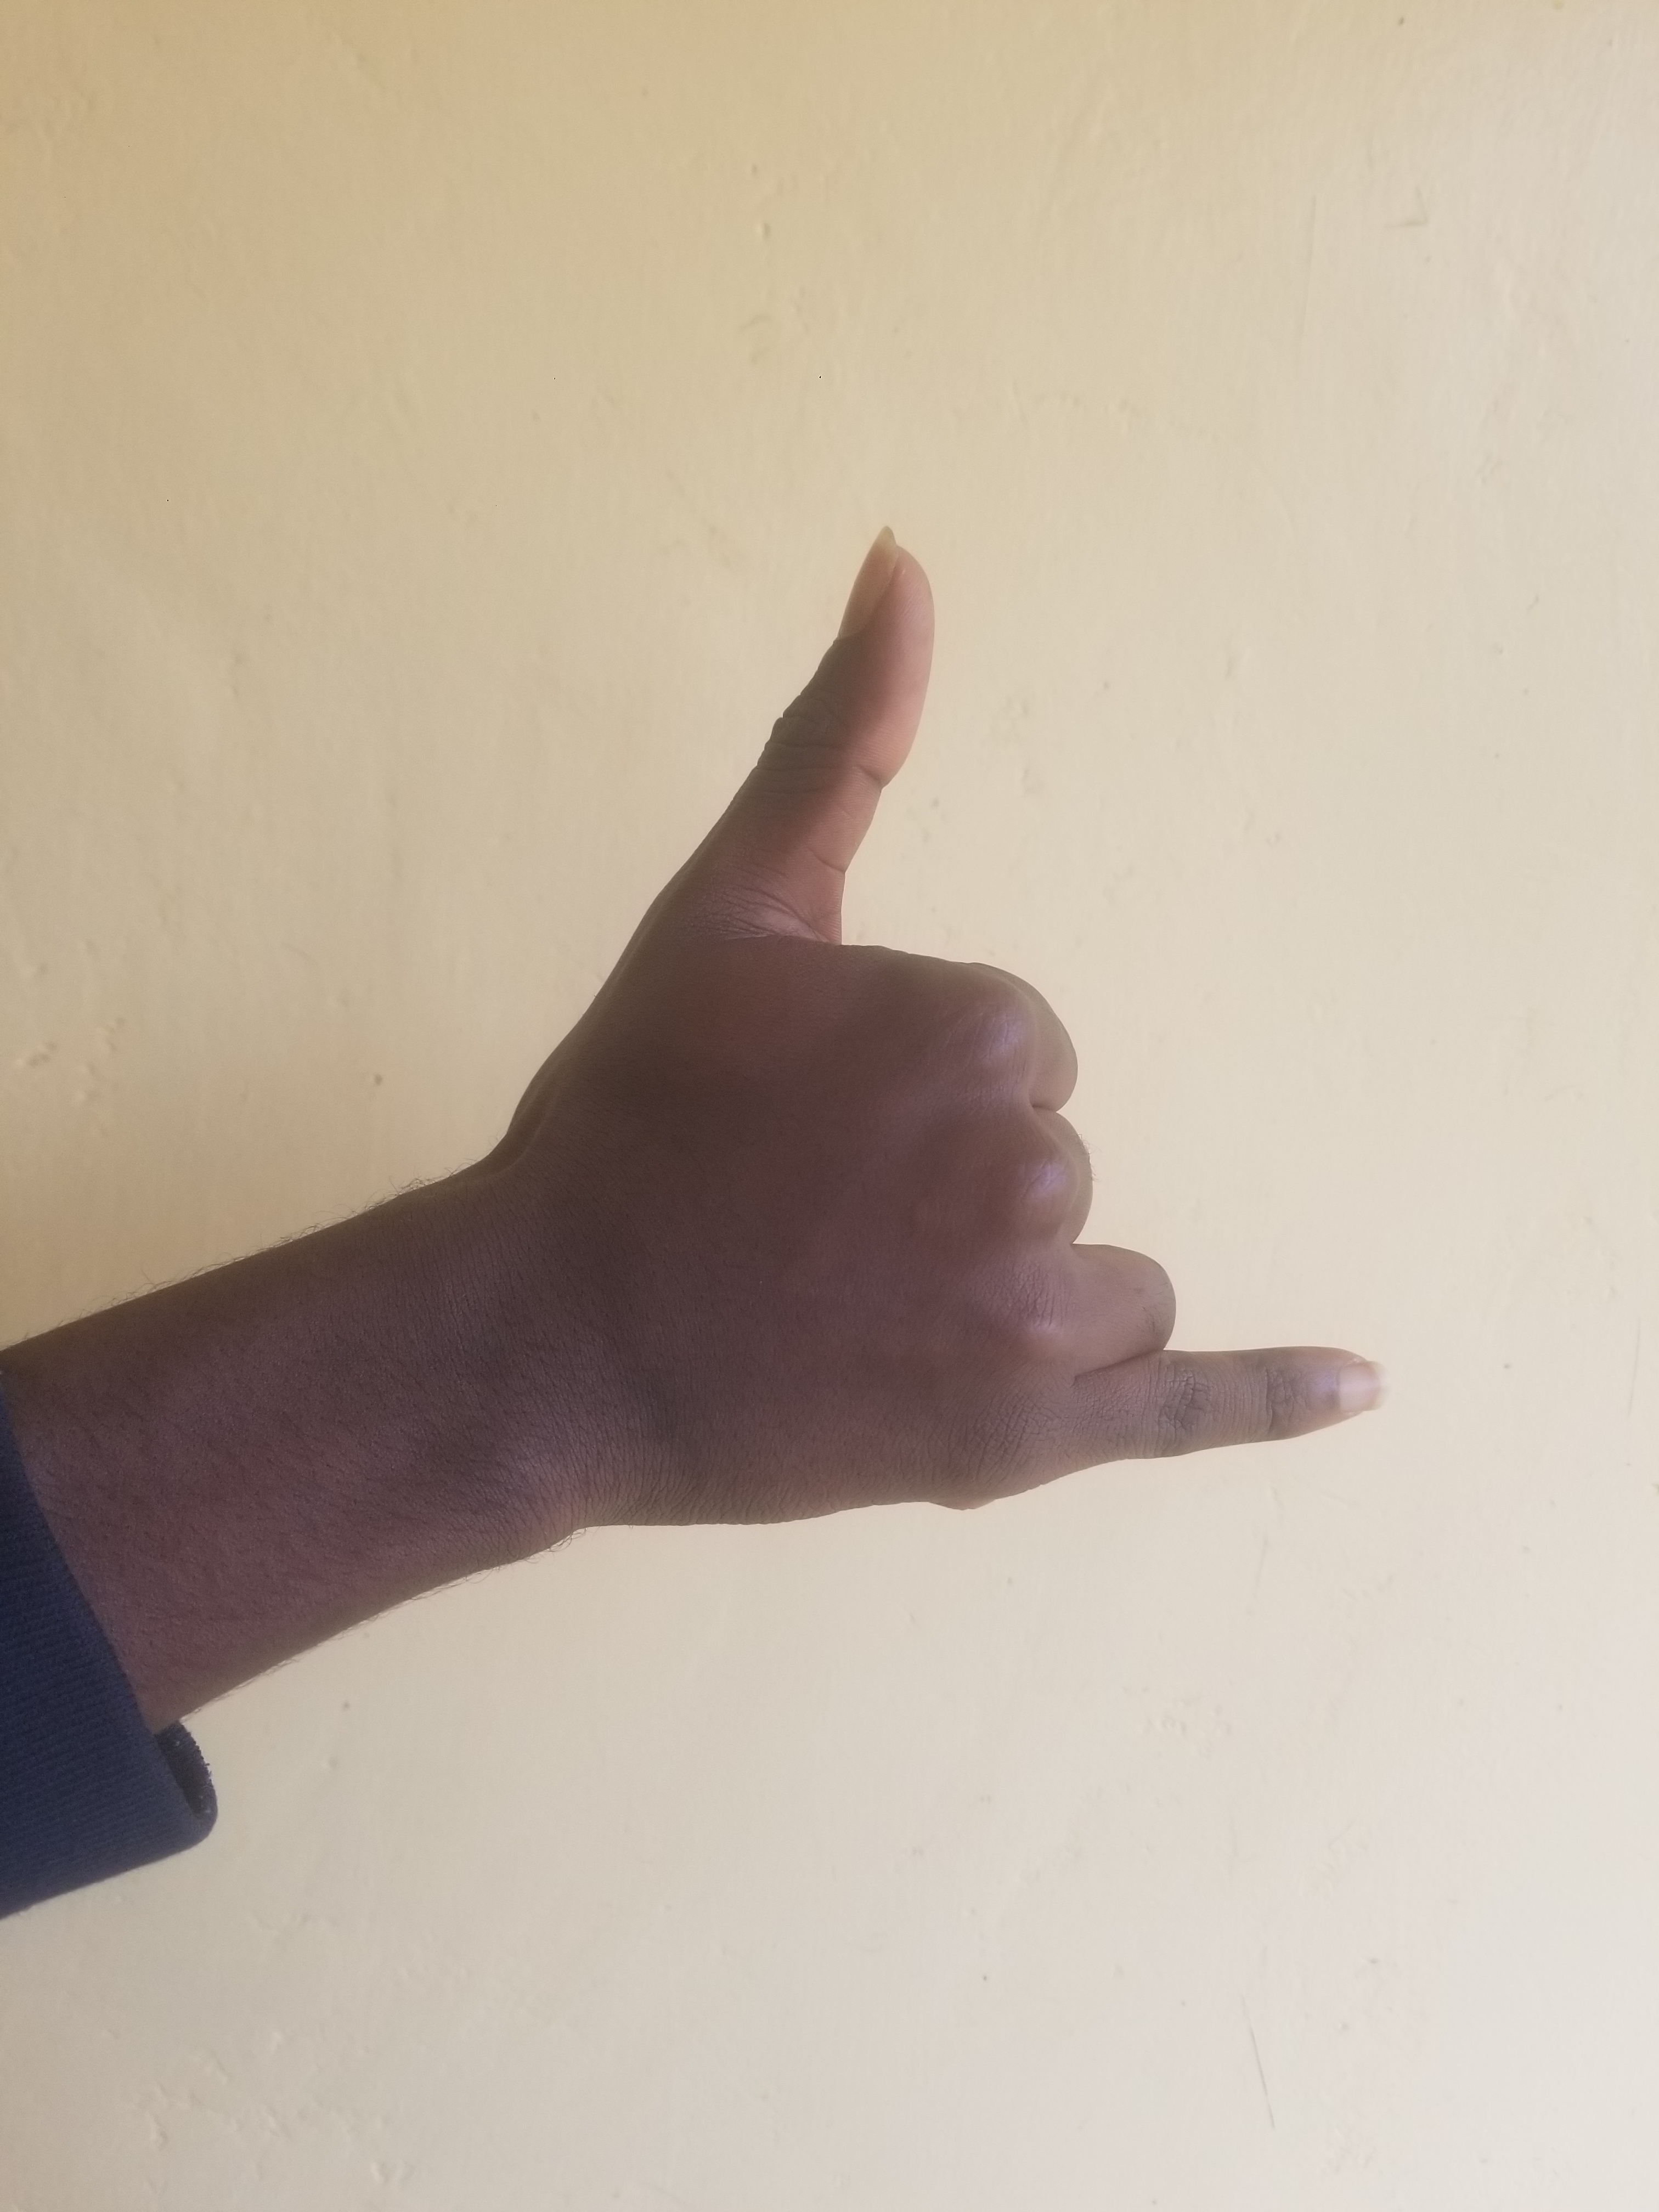call: (439, 523, 1546, 1653)
